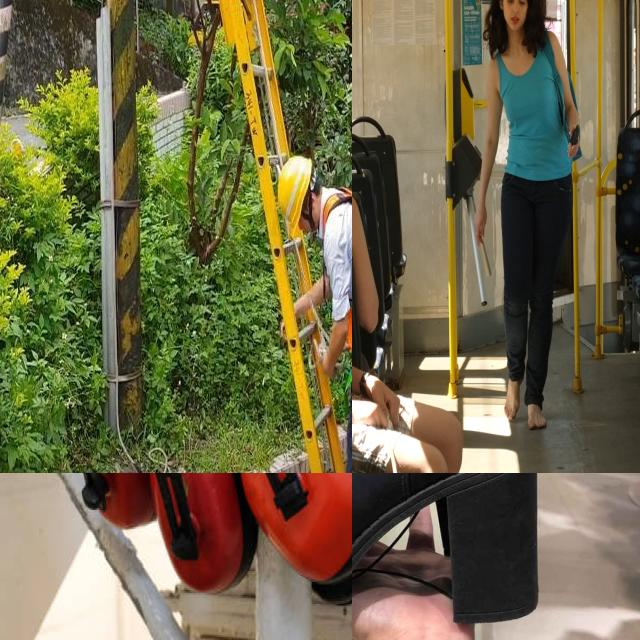Barefoots: (504, 370, 525, 421), (528, 404, 546, 430)
Ear-protection: (249, 473, 352, 606), (157, 473, 250, 595)
Harness: (322, 189, 352, 412)
Sandals: (352, 473, 575, 640)
